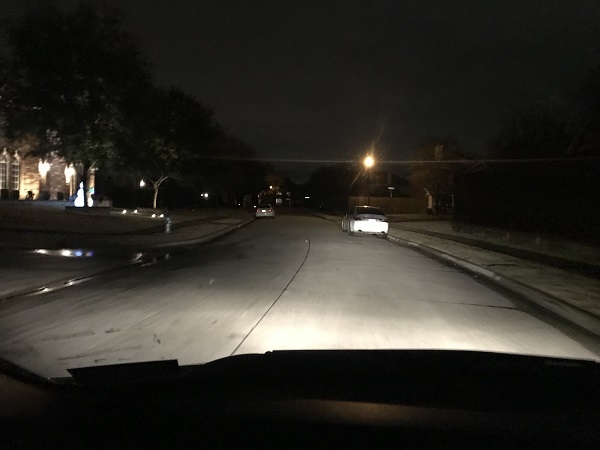car: (340, 203, 388, 238), (254, 202, 274, 217)
